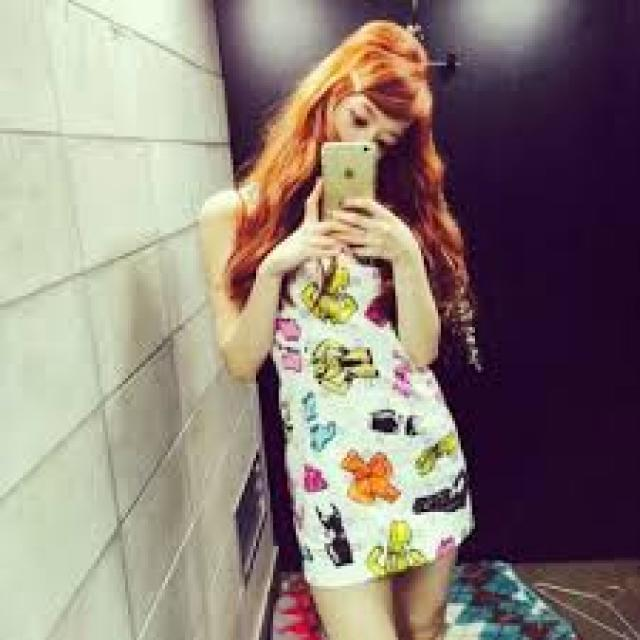Phone: (316, 138, 380, 241)
